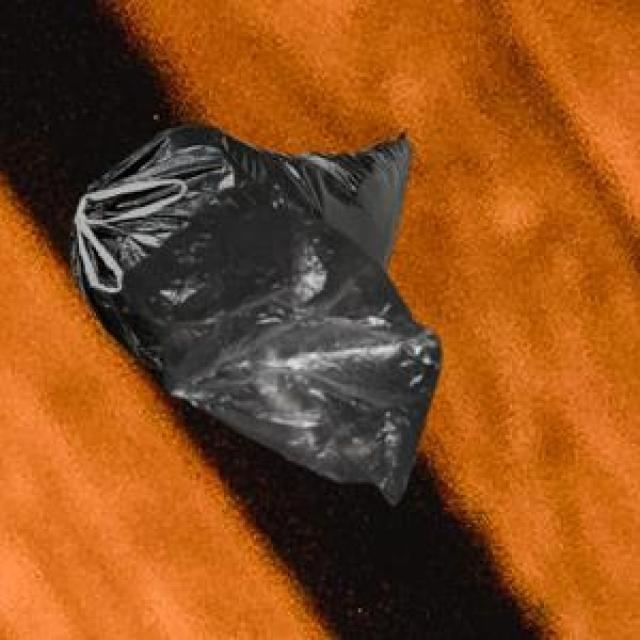miscellaneous trash: (66, 122, 408, 365)
